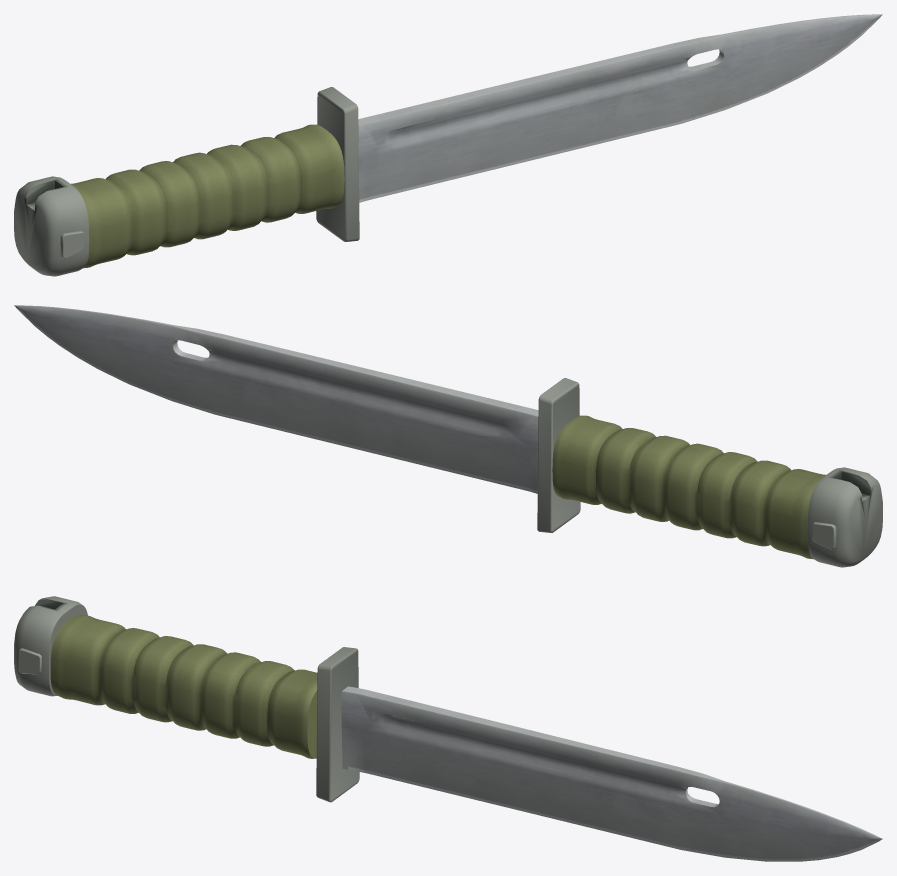
The model's file is bayonet_lod1.glb.
3 views of the same model, one above another, from view 1: azimuth 30°, elevation 25°; view 2: azimuth 150°, elevation 25°; view 3: azimuth 330°, elevation 25° (orthographic).
Visible parts, largest first — view 1: body; view 2: body; view 3: body.
Boxes of the visible parts, left/top/right/bottom form: body: left=14, top=14, right=882, bottom=276; body: left=14, top=305, right=882, bottom=567; body: left=14, top=596, right=882, bottom=861.
Size of the model in its own units: 0.355 by 0.0541 by 0.0324.
5 materials, 5 textured.
